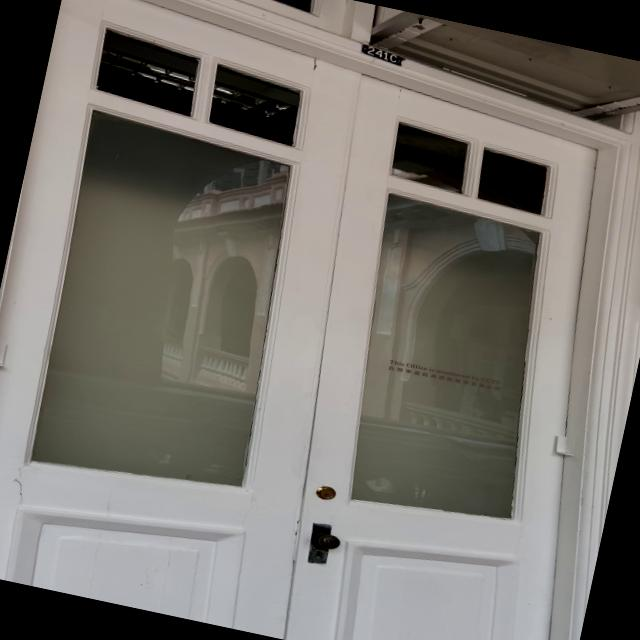room241c: (353, 37, 407, 70)
